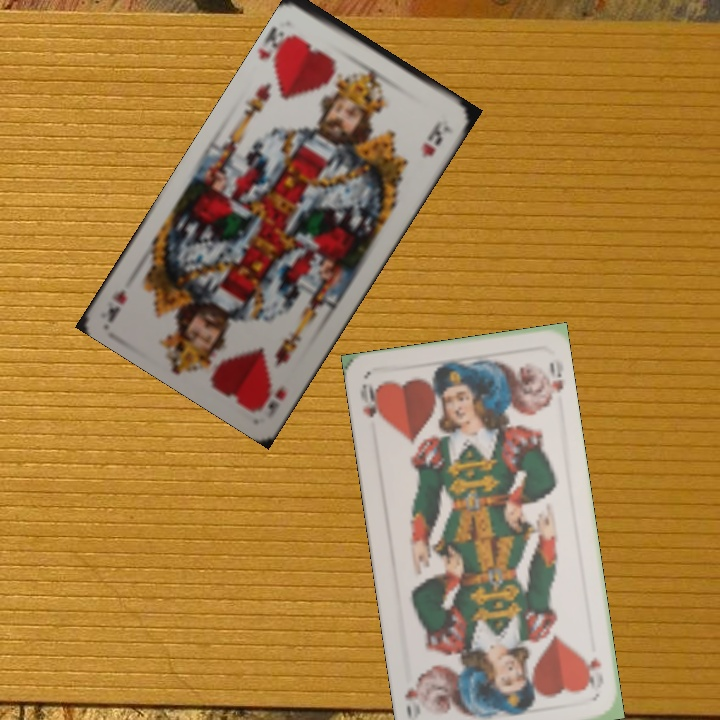HK: (261, 25, 300, 76), (263, 380, 289, 419)
HO: (356, 379, 385, 424), (580, 651, 604, 694)
